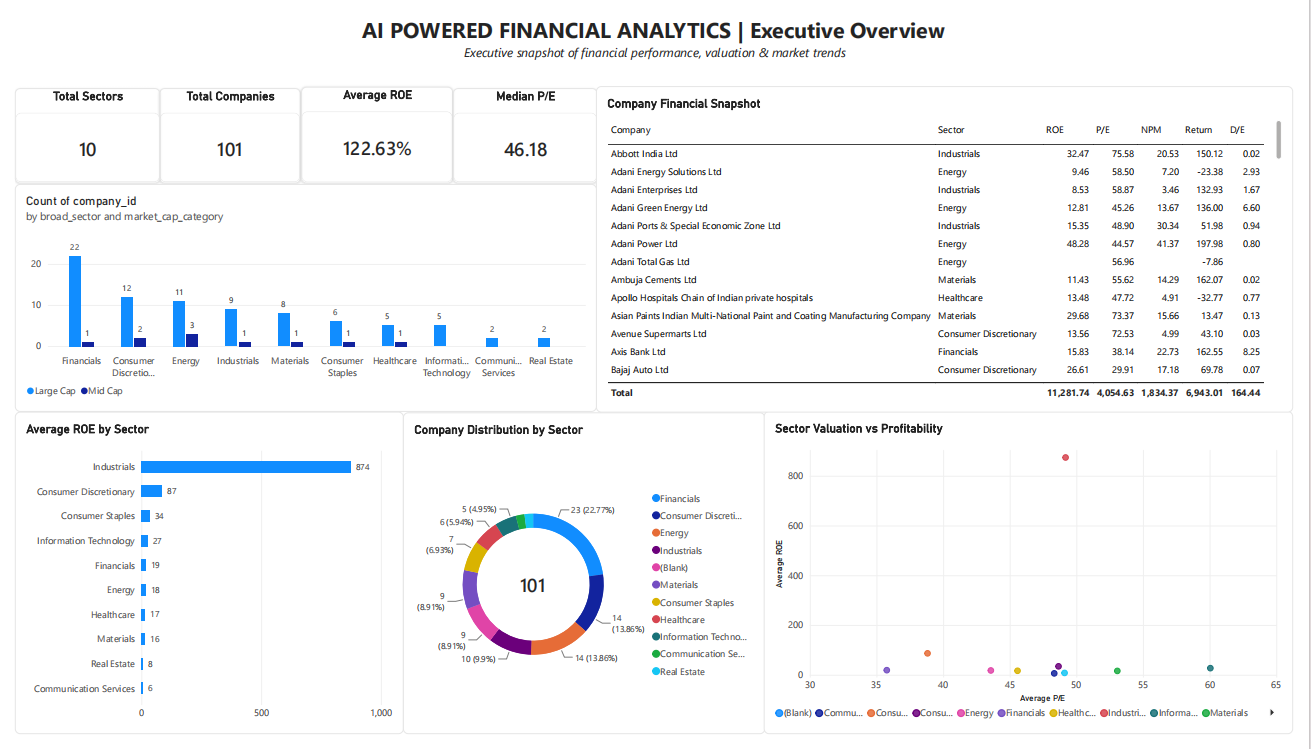

The dashboard page shown, as its layout file describes it:
{"tool":"powerbi","page":{"name":"Executive Overview","canvas":[1920,1080],"ordinal":0},"visuals":[{"type":"textbox","box":[0,0,1920,106.7],"z":0},{"type":"cardVisual","title":"Total Companies","fields":{"Data":["Count(financial_analytics company_master_profile.company_id)"]},"box":[216.7,110,212.5,142.5],"z":1000},{"type":"cardVisual","title":"Total Sectors","fields":{"Data":["Count(financial_analytics sector_performance.broad_sector)"]},"box":[0,110,217.5,142.5],"z":2000},{"type":"cardVisual","title":"Average ROE","fields":{"Data":["financial_analytics company_cashflow.Average ROE Display"]},"box":[430,108.3,228.3,145],"z":3000},{"type":"cardVisual","title":"Median P/E","fields":{"Data":["Median(financial_analytics company_master_profile.pe_ratio)"]},"box":[658.3,110,216.7,143.3],"z":4000},{"type":"clusteredBarChart","title":"Average ROE by Sector","fields":{"Category":["financial_analytics sector_performance.broad_sector"],"Y":["Avg(financial_analytics sector_performance.avg_roe_pct)"]},"box":[0,596,584,484],"z":5000},{"type":"donutChart","title":"Company Distribution by Sector","fields":{"Category":["financial_analytics company_master_profile.broad_sector"],"Y":["CountNonNull(financial_analytics company_master_profile.company_name)"]},"box":[583.3,596.7,543.3,483.3],"z":6000},{"type":"scatterChart","title":"Sector Valuation vs Profitability","fields":{"X":["Avg(financial_analytics company_master_profile.pe_ratio)"],"Y":["Avg(financial_analytics company_master_profile.return_on_equity_pct)"],"Series":["financial_analytics sector_performance.broad_sector"]},"box":[1125,595,795,485],"z":7000},{"type":"tableEx","title":"Company Financial Snapshot","fields":{"Values":["financial_analytics company_master_profile.company_name","financial_analytics company_master_profile.broad_sector","Sum(financial_analytics company_master_profile.return_on_equity_pct)","Sum(financial_analytics company_master_profile.pe_ratio)","Sum(financial_analytics company_master_profile.net_profit_margin_pct)","Sum(financial_analytics company_master_profile.return_pct)","Sum(financial_analytics company_master_profile.debt_to_equity)"]},"box":[873.3,106.7,1046.7,490],"z":8000},{"type":"clusteredColumnChart","fields":{"Category":["financial_analytics company_master_profile.broad_sector"],"Y":["CountNonNull(financial_analytics company_stock_performance.company_id)"],"Series":["financial_analytics sectors.market_cap_category"]},"box":[0,254,874,342],"z":9000}]}

Visuals, with their boxes in screenshot pixels (x1, y1, x2, y2), scaled from the page's 1920x1080 canvas onto the 1311x749 screenshot:
textbox: <bbox>0, 0, 1310, 74</bbox>
"Total Companies" cardVisual: <bbox>148, 76, 293, 175</bbox>
"Total Sectors" cardVisual: <bbox>0, 76, 149, 175</bbox>
"Average ROE" cardVisual: <bbox>294, 75, 449, 176</bbox>
"Median P/E" cardVisual: <bbox>449, 76, 597, 176</bbox>
"Average ROE by Sector" clusteredBarChart: <bbox>0, 413, 399, 748</bbox>
"Company Distribution by Sector" donutChart: <bbox>398, 414, 769, 748</bbox>
"Sector Valuation vs Profitability" scatterChart: <bbox>768, 413, 1310, 748</bbox>
"Company Financial Snapshot" tableEx: <bbox>596, 74, 1310, 414</bbox>
clusteredColumnChart - financial_analytics company_master_profile.broad_sector x CountNonNull(financial_analytics company_stock_performance.company_id): <bbox>0, 176, 597, 413</bbox>
